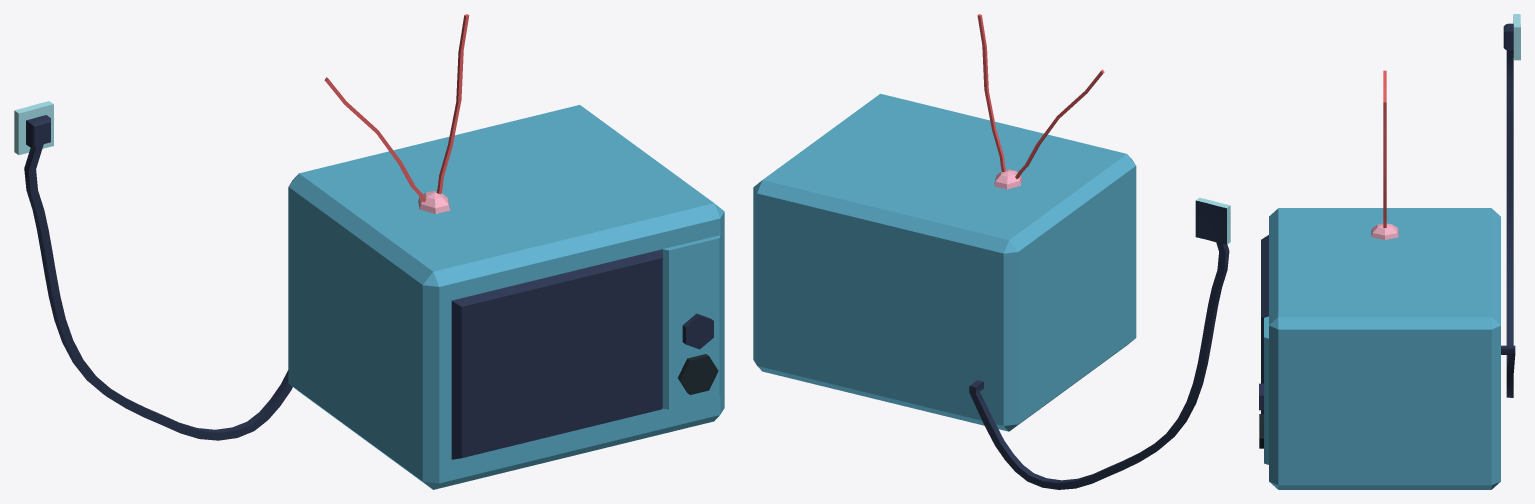
The picture shows the model from 3 angles, left to right: view 1: azimuth 30°, elevation 25°; view 2: azimuth 150°, elevation 25°; view 3: azimuth 270°, elevation 25°; orthographic projection. The views are drawn at different scales.
Visible parts, largest first — view 1: tv; view 2: tv; view 3: tv.
Part boxes in pixels (x1=…): tv: x1=14, y1=14, x2=724, y2=489; tv: x1=753, y1=14, x2=1230, y2=489; tv: x1=1259, y1=14, x2=1520, y2=489.
Size of the model in its own units: 0.2941 by 0.2227 by 0.1507.
